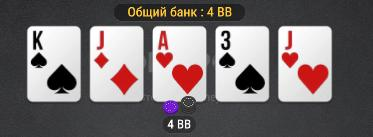3s: (217, 29, 267, 100)
Ah: (155, 27, 205, 100)
Jd: (92, 28, 143, 100)
Jh: (280, 27, 330, 101)
Ks: (29, 28, 79, 99)
